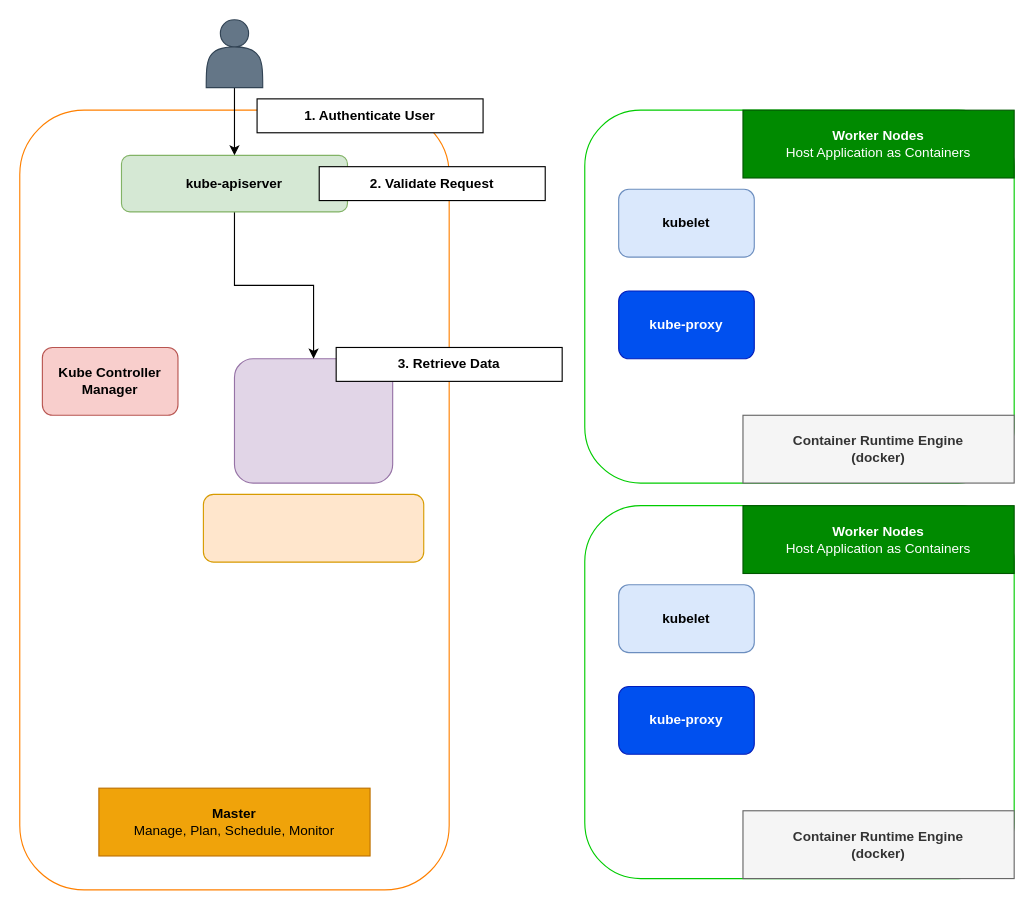
The diagram is 1034 pixels wide and 910 high, and some of its shapes have lost their labels. Each missing label, with the box of its shape:
ETCD Cluster: (233, 358, 393, 483)
kube-scheduler: (202, 493, 424, 562)
